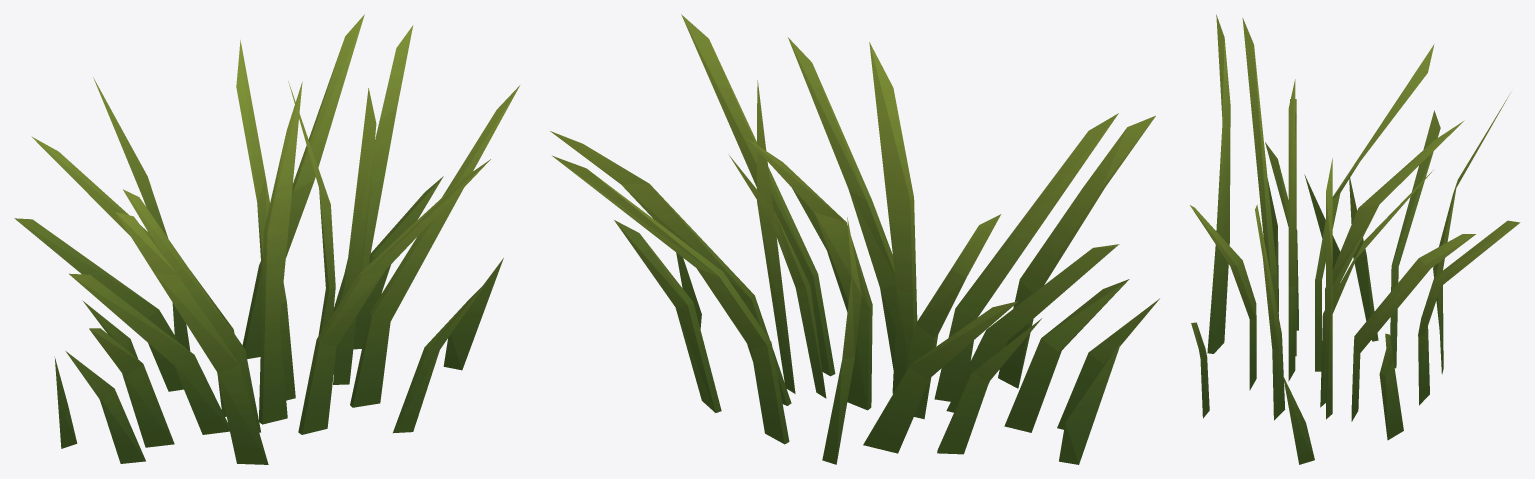
The model's file is Grass_Large_Extruded.glb.
3 renders of one model, left to right at view 1: azimuth 30°, elevation 25°; view 2: azimuth 150°, elevation 25°; view 3: azimuth 270°, elevation 25°, orthographic. The views are drawn at different scales.
Bounding box in the file's own units: 0.7447 × 0.5089 × 0.4879.
Materials: 1 (1 with a texture image).
